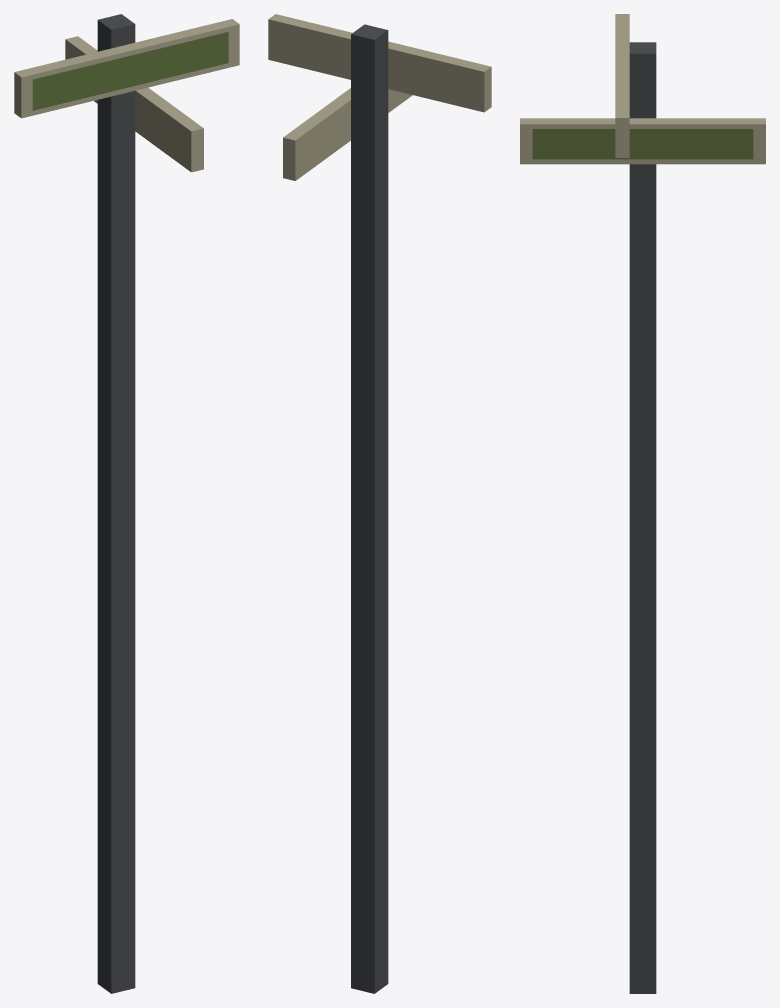
File: PS_StreetSign01.fbx
3 renders of one model, left to right at view 1: azimuth 30°, elevation 25°; view 2: azimuth 150°, elevation 25°; view 3: azimuth 270°, elevation 25°, orthographic. The views are drawn at different scales.
Parts seen in each view (by area): view 1: PS_StreetSign01; view 2: PS_StreetSign01; view 3: PS_StreetSign01.
Part boxes in pixels (left/top/right/bottom): PS_StreetSign01: left=14, top=14, right=239, bottom=993; PS_StreetSign01: left=268, top=14, right=491, bottom=993; PS_StreetSign01: left=520, top=14, right=765, bottom=993.
Bounding box in the file's own units: 0.4739 × 2 × 0.4739.
